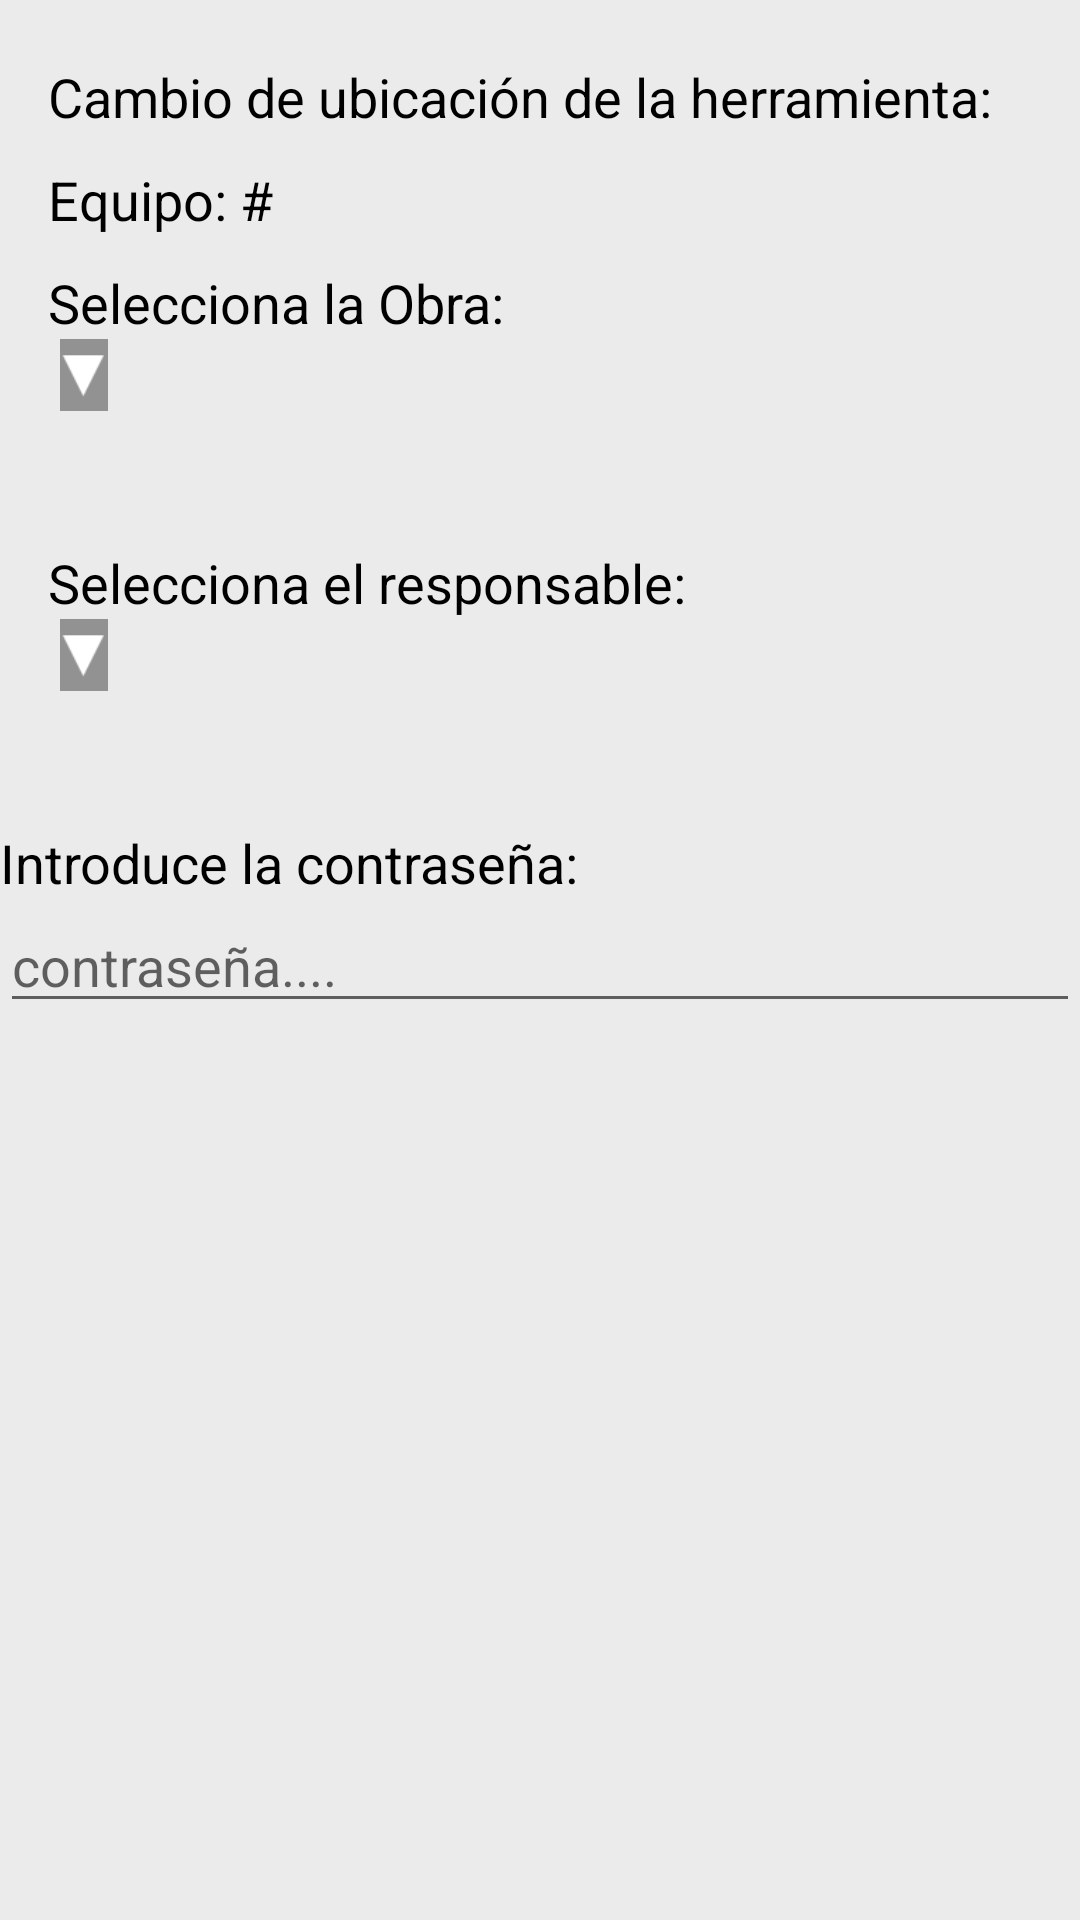

Named icons in this screenshot (1080x1920) and their bounding boxes, (x1, y1, x2, y2):
spinner dropdown: (60, 339, 108, 411), (60, 619, 108, 691)
